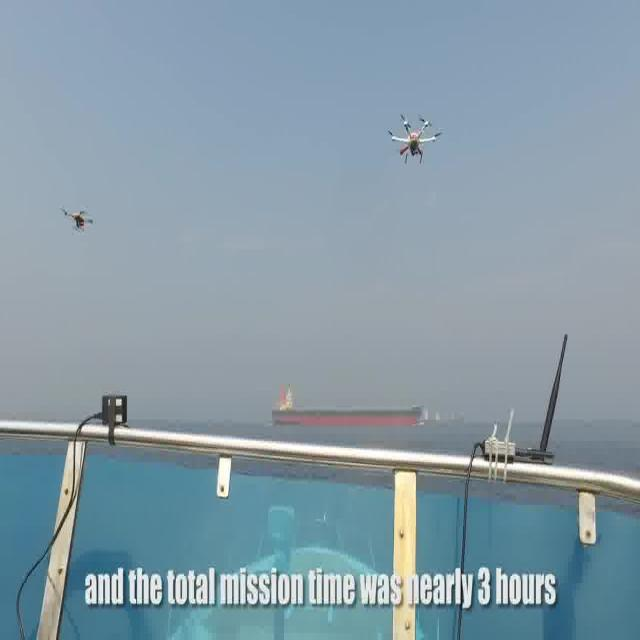Drone_FW: (372, 97, 448, 181), (59, 204, 103, 241)
